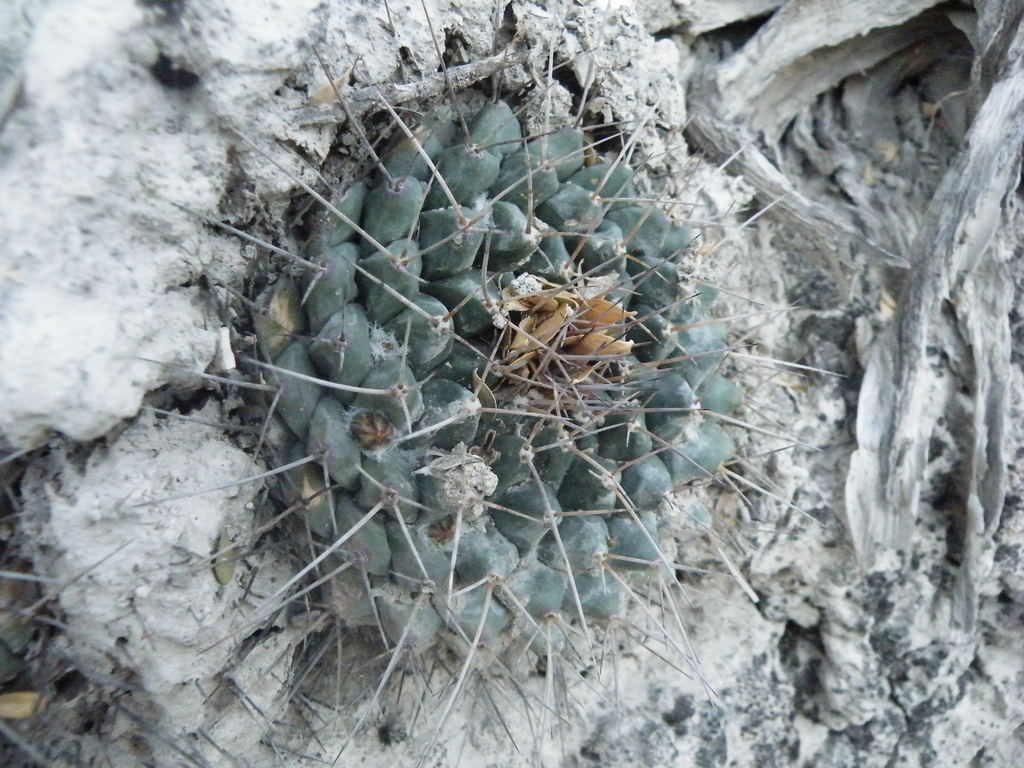Animal: (122, 0, 853, 760)
